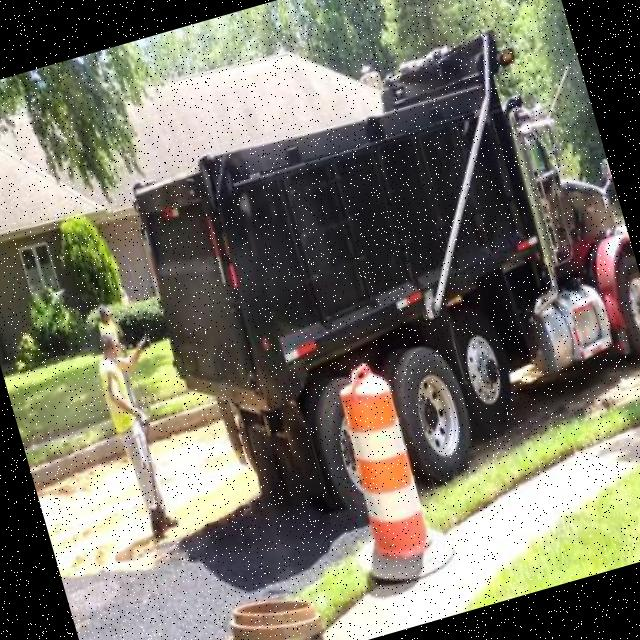Dump Truck: (98, 3, 640, 562)
